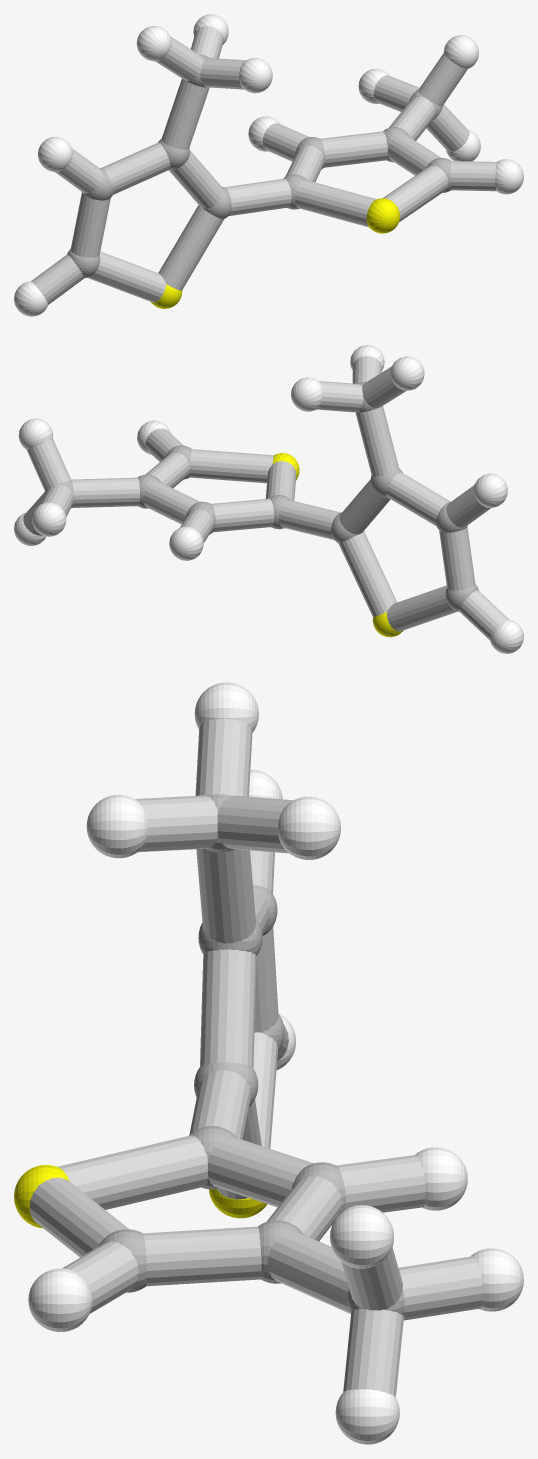
The model's file is Methylthiophene_Phi_5_Theta_90_Methylthiophene.glb.
3 views of the same model, one above another, from view 1: azimuth 30°, elevation 25°; view 2: azimuth 150°, elevation 25°; view 3: azimuth 270°, elevation 25° (orthographic). The views are drawn at different scales.
Parts seen in each view (by area): view 1: grp7965, grp3621, grp1, grp7241; view 2: grp7965, grp3621, grp1, grp7241; view 3: grp7965, grp3621, grp1, grp7241.
Part boxes in pixels (x1,y1,x2,y2): grp7965: (31, 26, 496, 304); grp3621: (14, 14, 523, 316); grp1: (67, 54, 451, 278); grp7241: (150, 198, 400, 308); grp7965: (23, 356, 509, 639); grp3621: (14, 345, 523, 653); grp1: (44, 382, 478, 611); grp7241: (272, 453, 403, 637); grp7965: (29, 718, 483, 1396); grp3621: (28, 682, 523, 1444); grp1: (98, 794, 404, 1315); grp7241: (14, 1165, 267, 1228).
Size of the model in its own units: 9.59 by 5.34 by 4.76.
